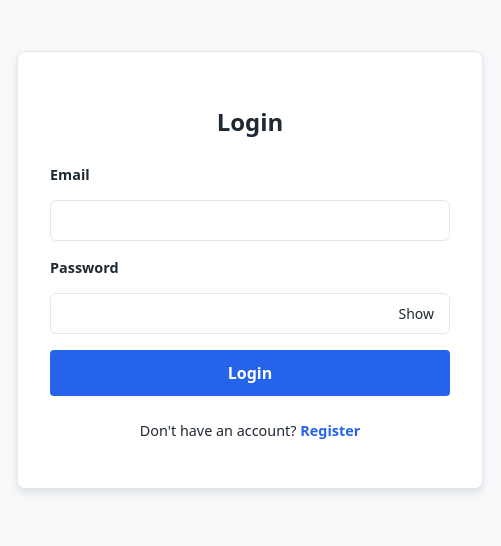
Scenario: LoginPage Component › Error Handling Tests (Hata Yönetimi Testleri) › Network hatası durumunda hata mesajı gösterilmeli
This screenshot has width=501, height=546.
Type "test@test.com" into the field labelled "Email" at (250, 220), box [50, 200, 450, 241]
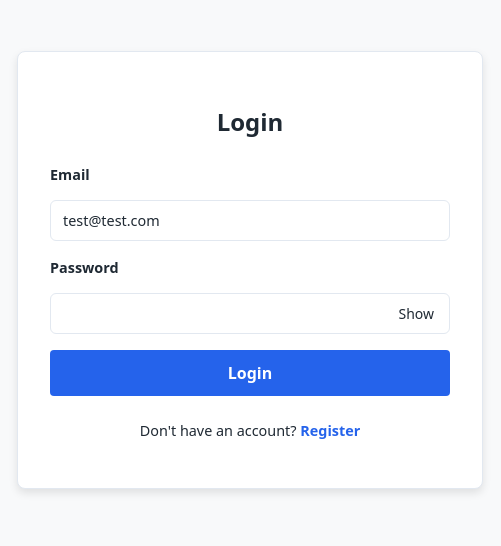
Type "Password123!" into the password field labelled "Password" at (250, 313), box [50, 293, 450, 334]
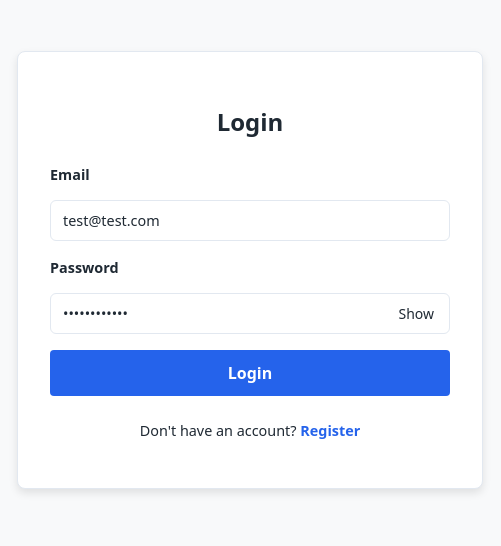
Click the button "Login" at (250, 373), box [50, 350, 450, 396]
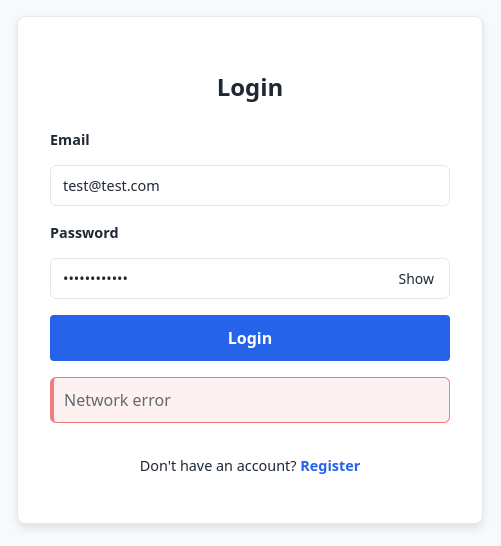
Expected: the text "Network error" is shown, [50, 377, 450, 423]
